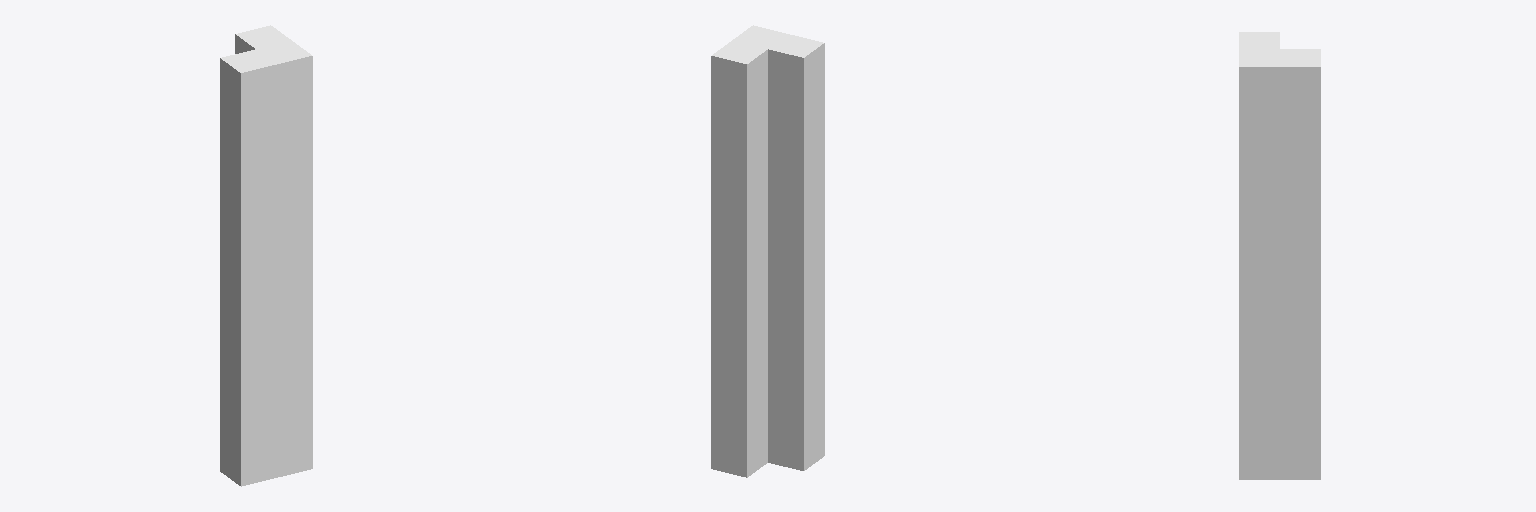
Rendered from showcase-0.obj.
The picture shows the model from 3 angles: view 1: azimuth 30°, elevation 25°; view 2: azimuth 150°, elevation 25°; view 3: azimuth 270°, elevation 25°; orthographic projection.
Visible parts, largest first — view 1: object 1; view 2: object 1; view 3: object 1.
Boxes of the visible parts, box(x1,y1,x2,y2) form: object 1: box(220, 25, 312, 486); object 1: box(711, 25, 824, 477); object 1: box(1239, 32, 1320, 479).
Bounding box in the file's own units: 0.2 × 1.1 × 0.2.